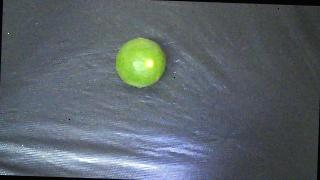LOCAL: (115, 37, 167, 88)
